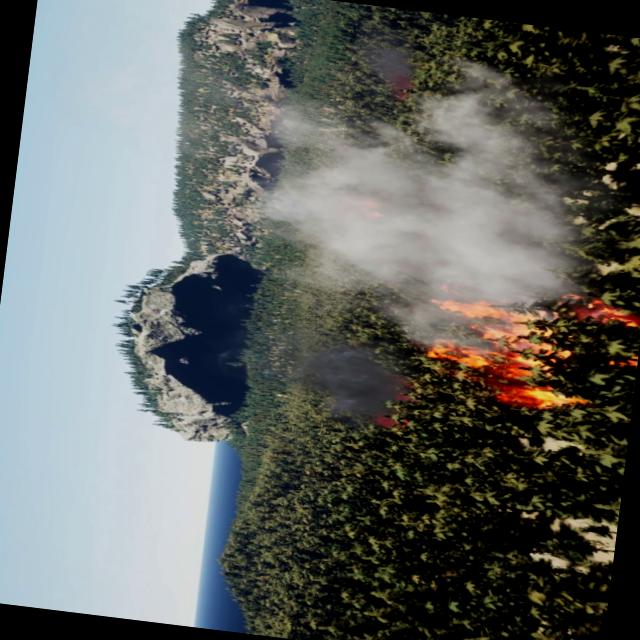fire: (412, 275, 640, 421)
smoke: (226, 35, 606, 365), (290, 334, 423, 429)
